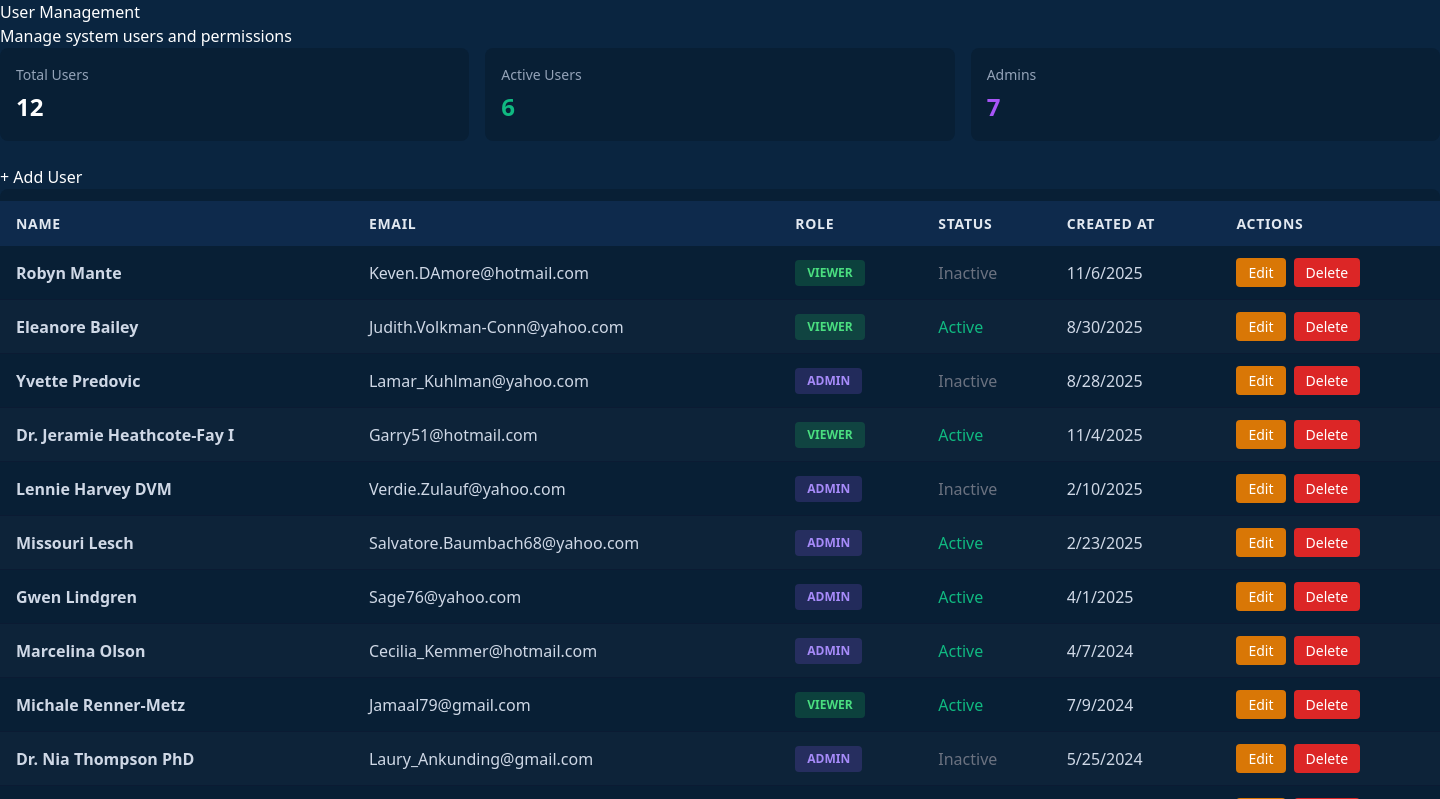
Test: UserManagement › should show edit modal title when editing
What coordinates should you click on to do the following:
click the 1st button "Edit"
I would click on:
 (1261, 272)
Its box is [1236,258,1286,287].
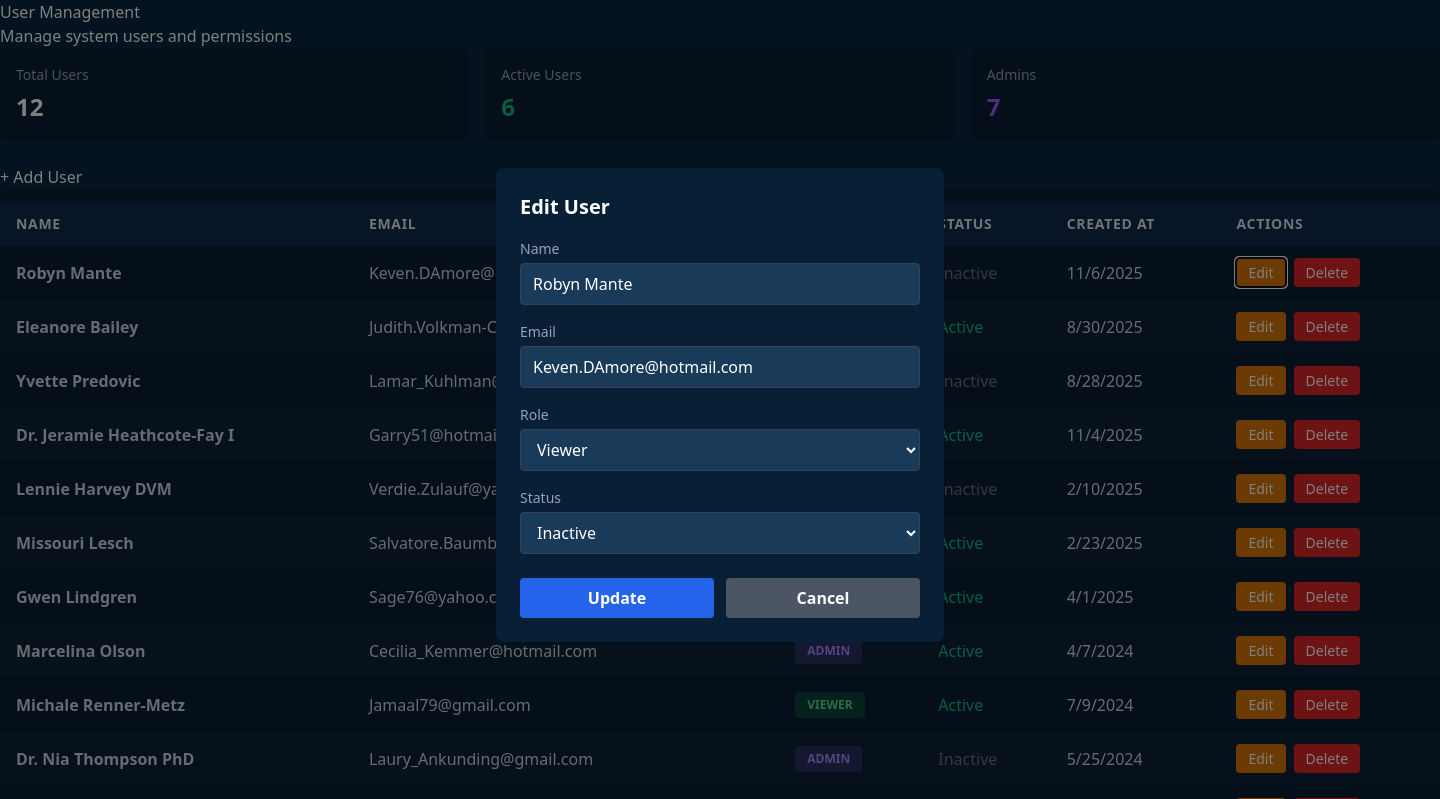
Now the heading "Edit User" is shown, box [520,193,610,220]
